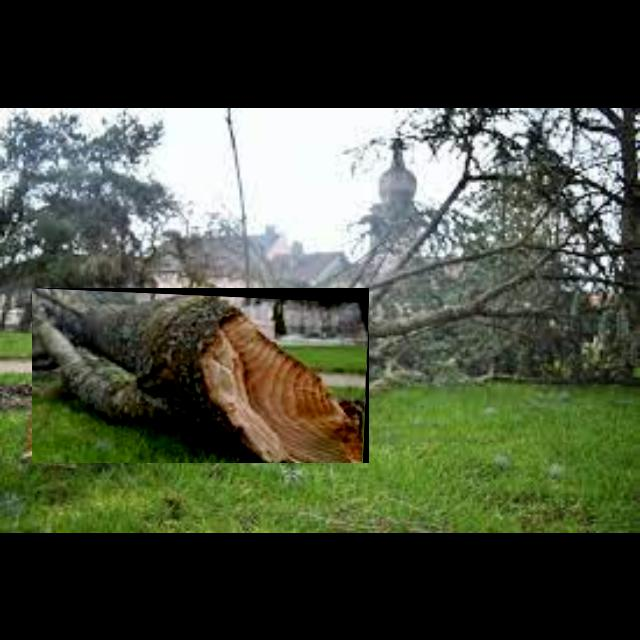Fallen Tree: (32, 288, 370, 464)
